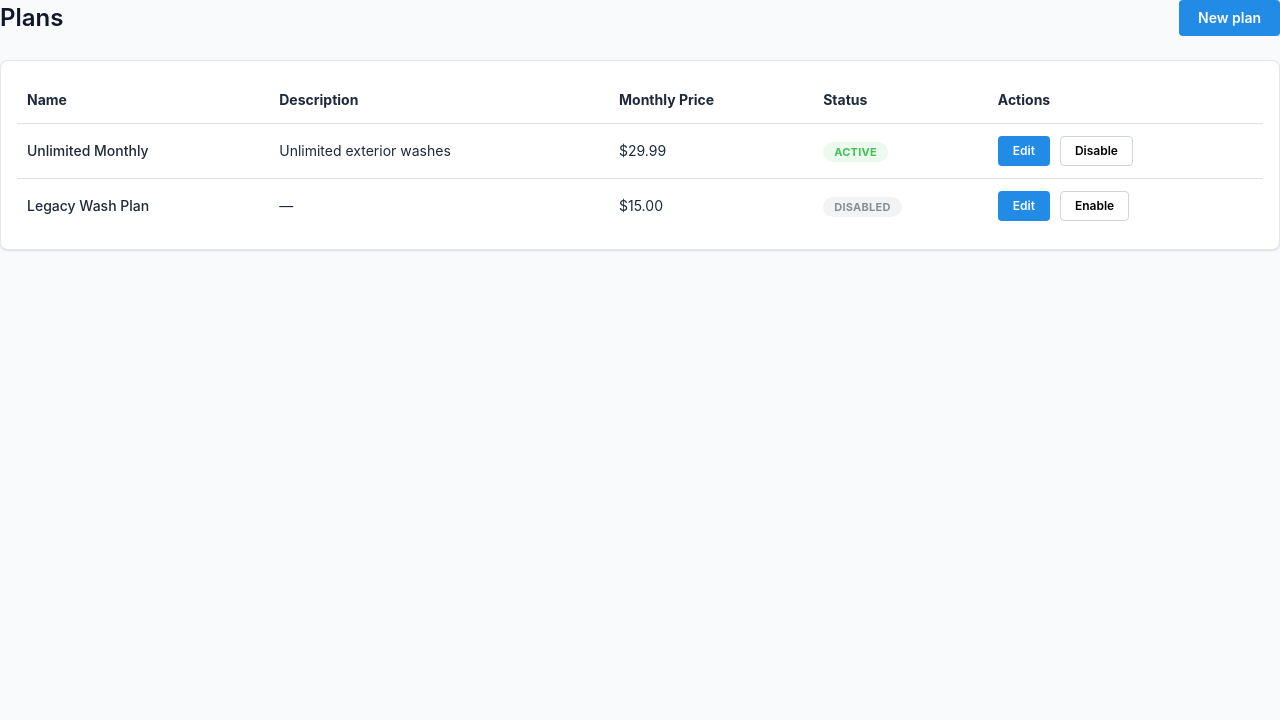
Test case: PlansEditor › editing a plan › keeps Save disabled until something changes
This screenshot has width=1280, height=720.
Expected: the text "Unlimited Monthly" is shown, [17, 123, 269, 178]
Click the button with aria-label "Edit Unlimited Monthly" at (1024, 151), box [998, 136, 1050, 166]
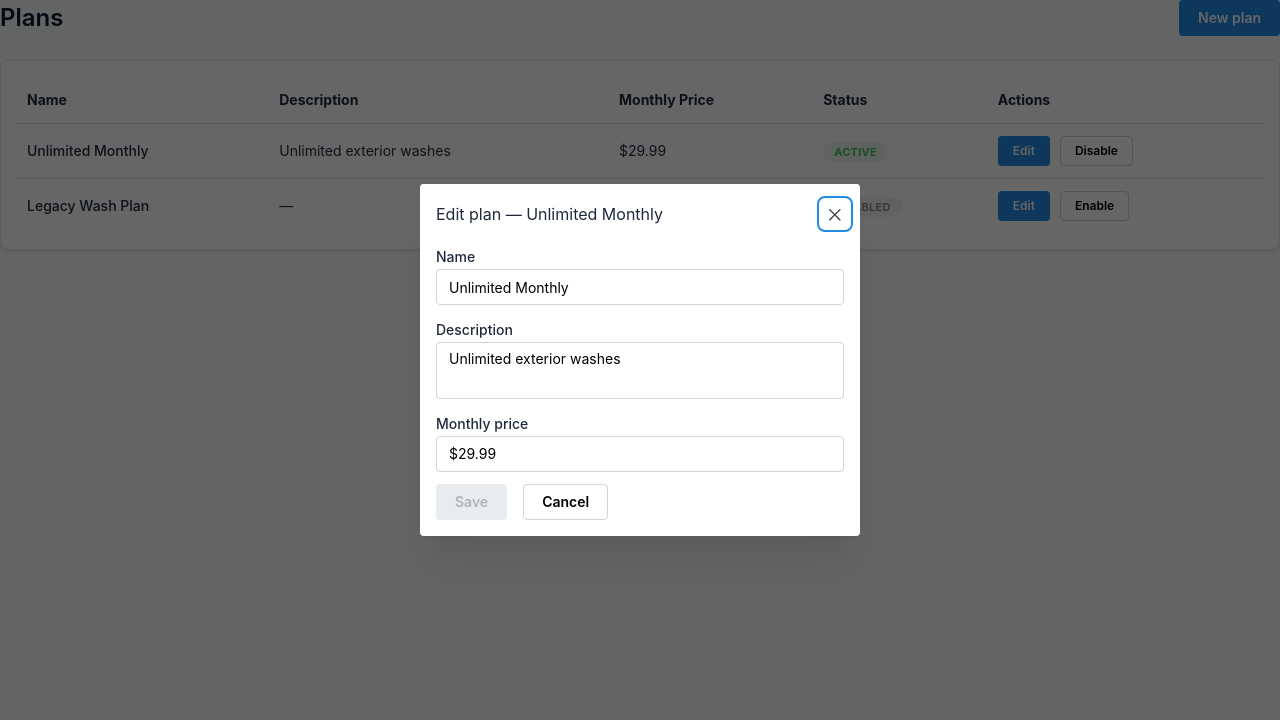
Now the button "Save" is disabled, box [436, 484, 507, 520]
Type "!" into the field labelled "Name" at (640, 287), box [436, 269, 844, 305]
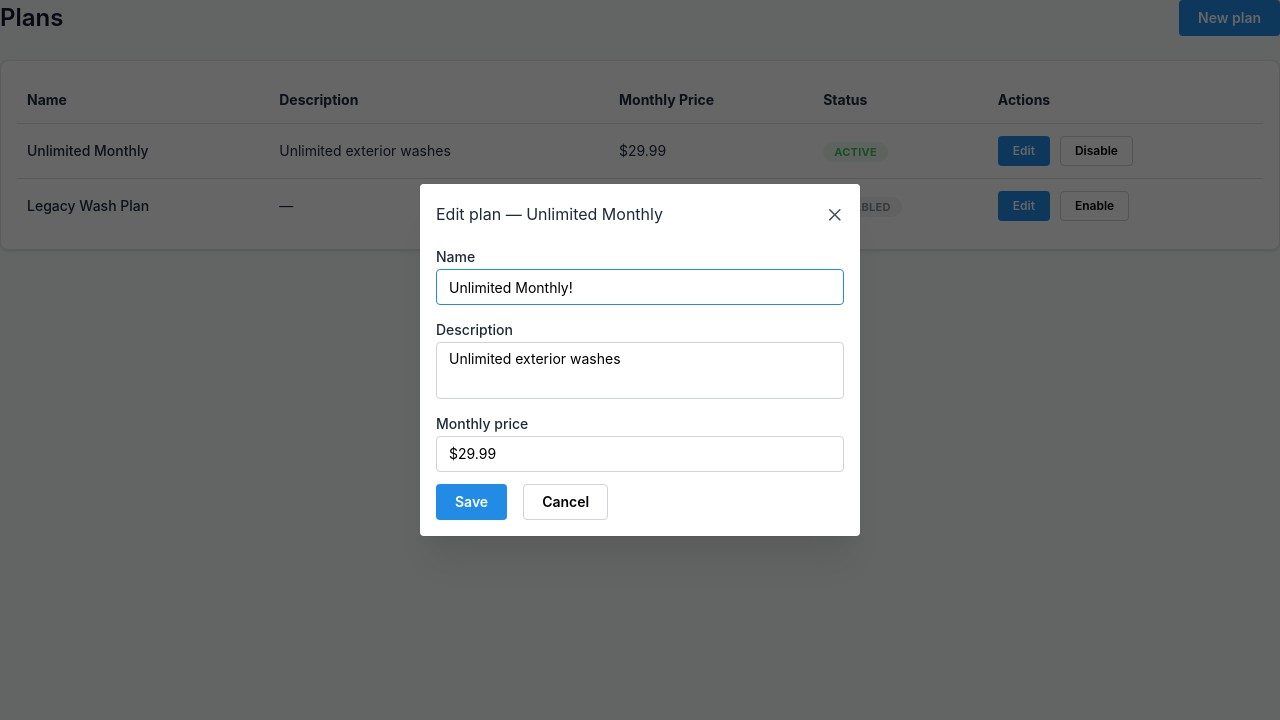
Now the button "Save" is enabled, box [436, 484, 507, 520]
